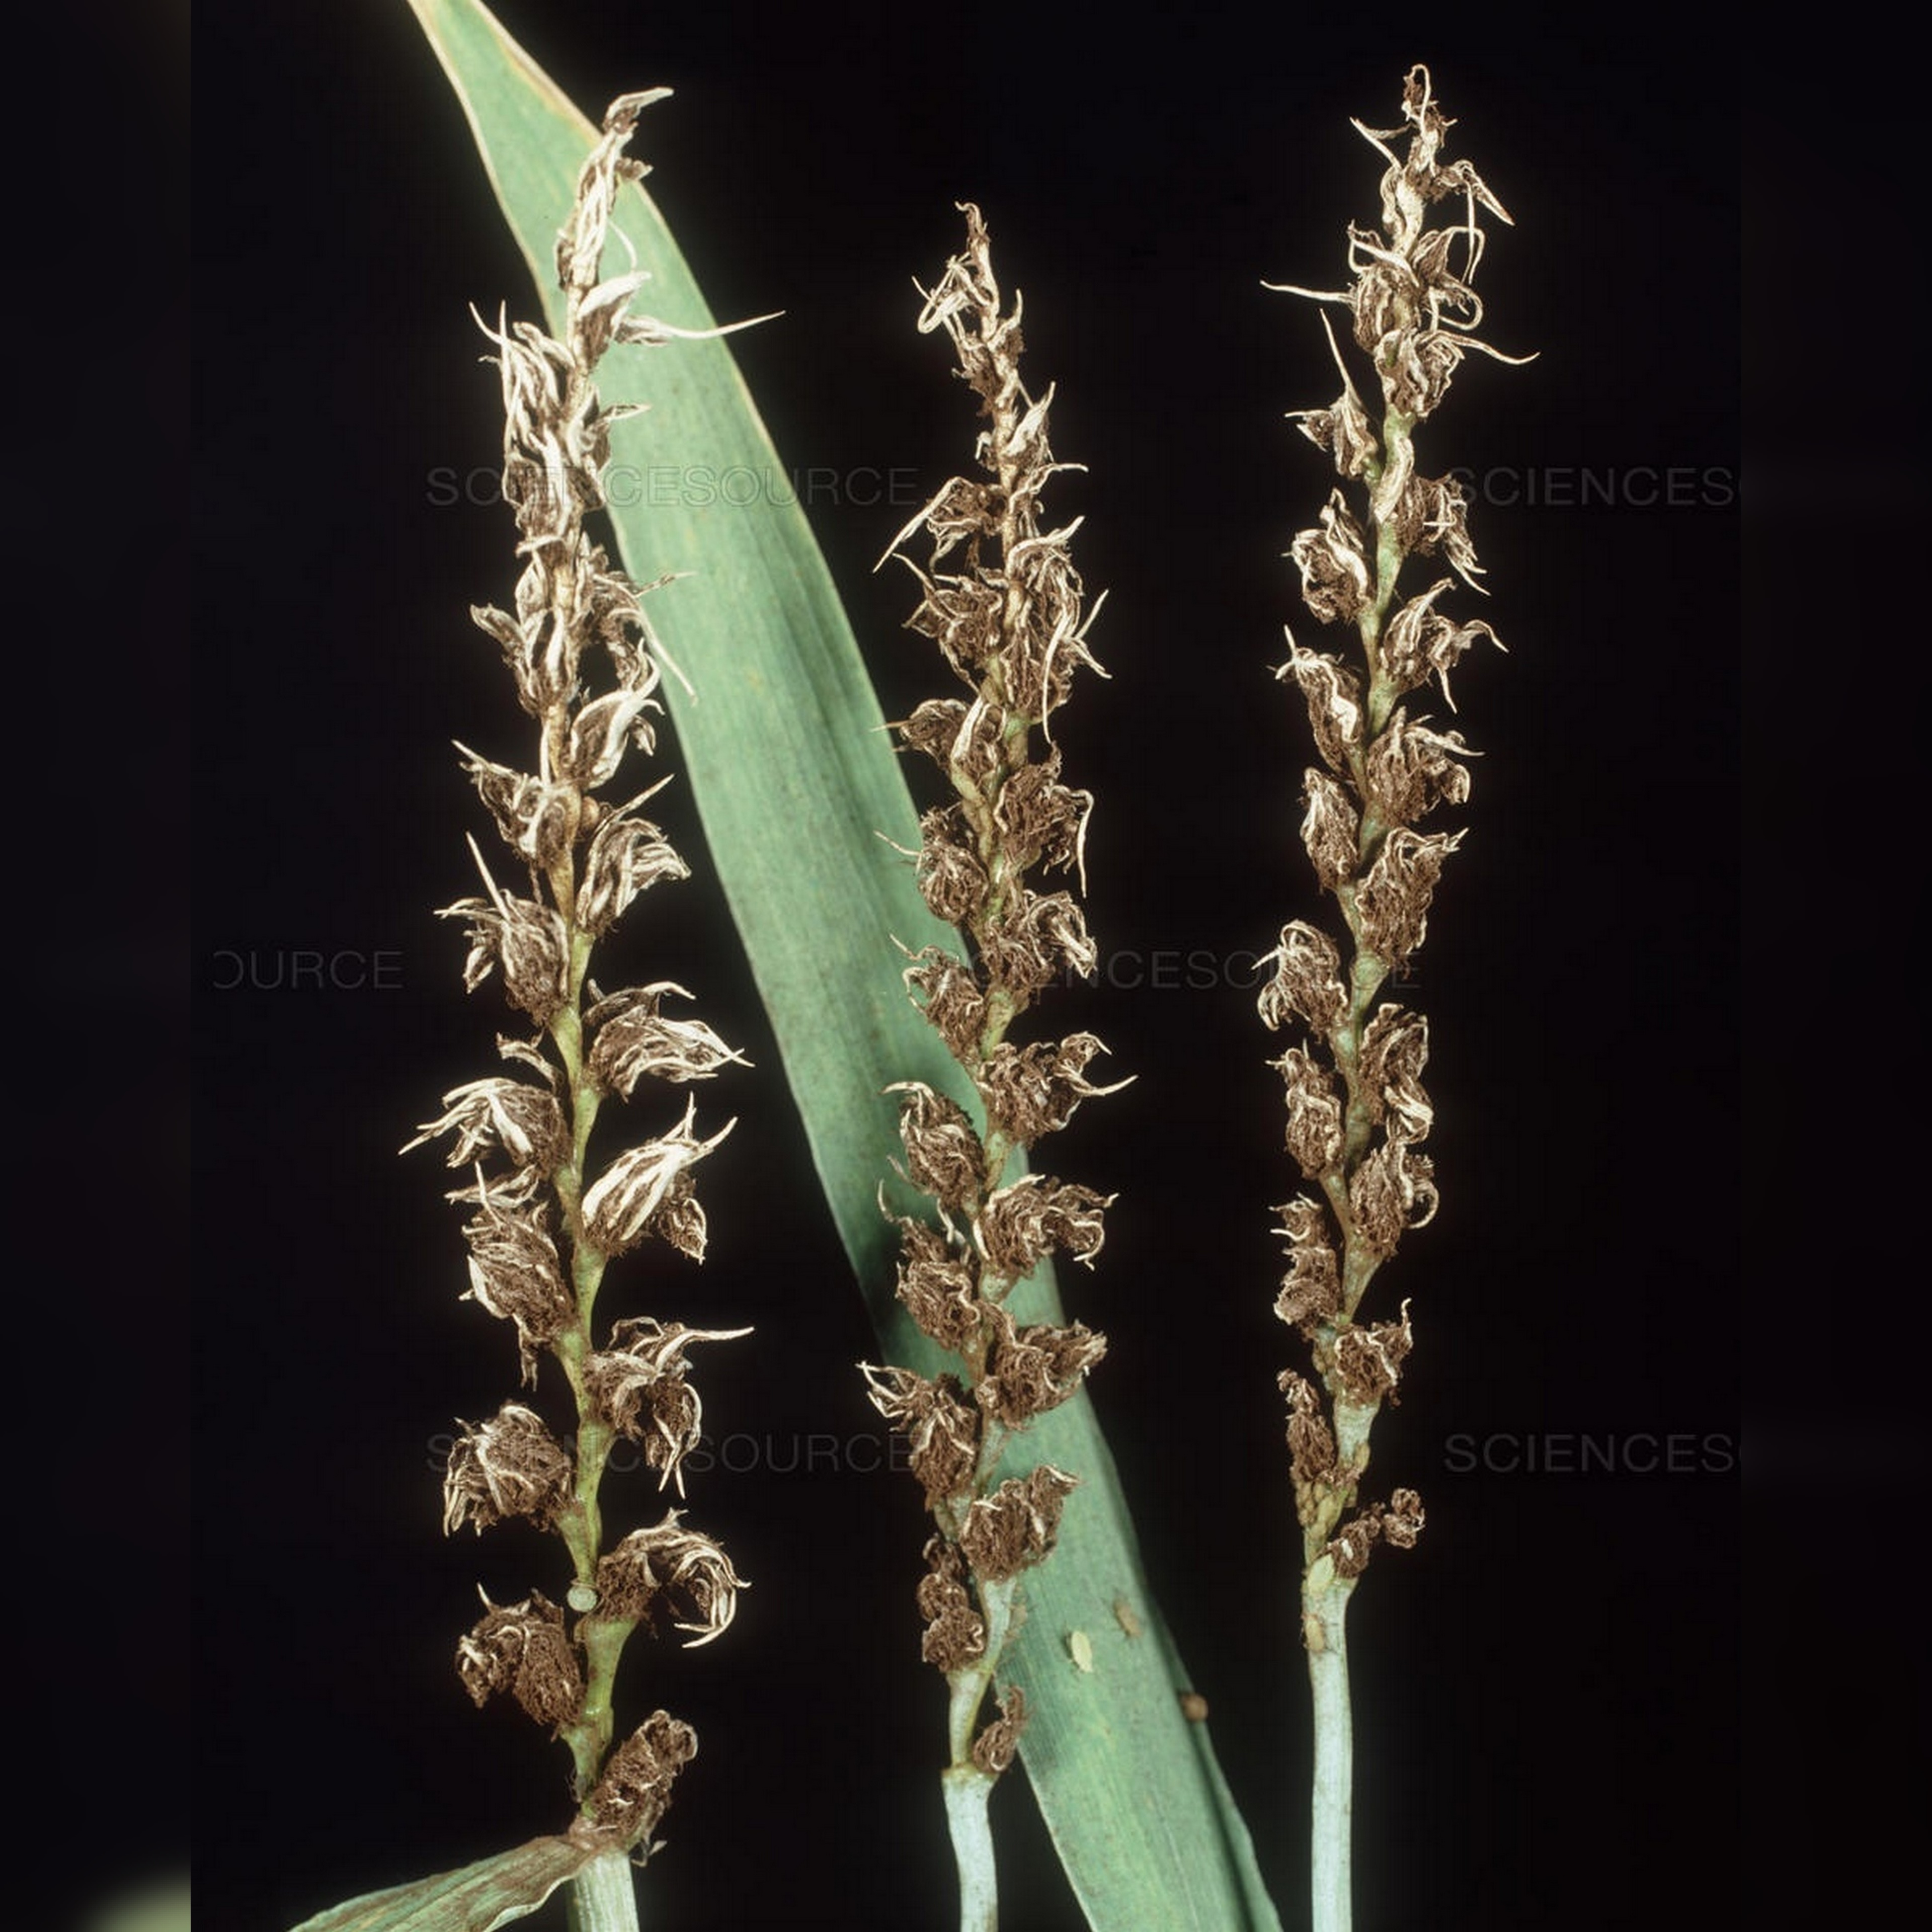Wheat Loose Smut: (840, 131, 1583, 1668), (370, 234, 722, 1792)
